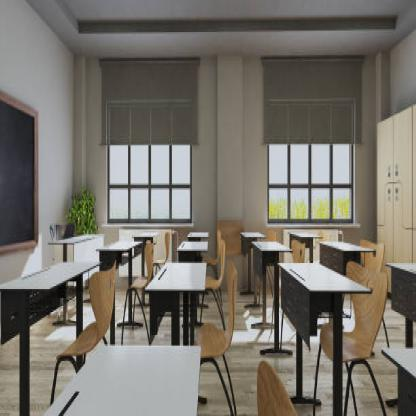Window: (267, 101, 355, 224), (106, 97, 193, 218)
